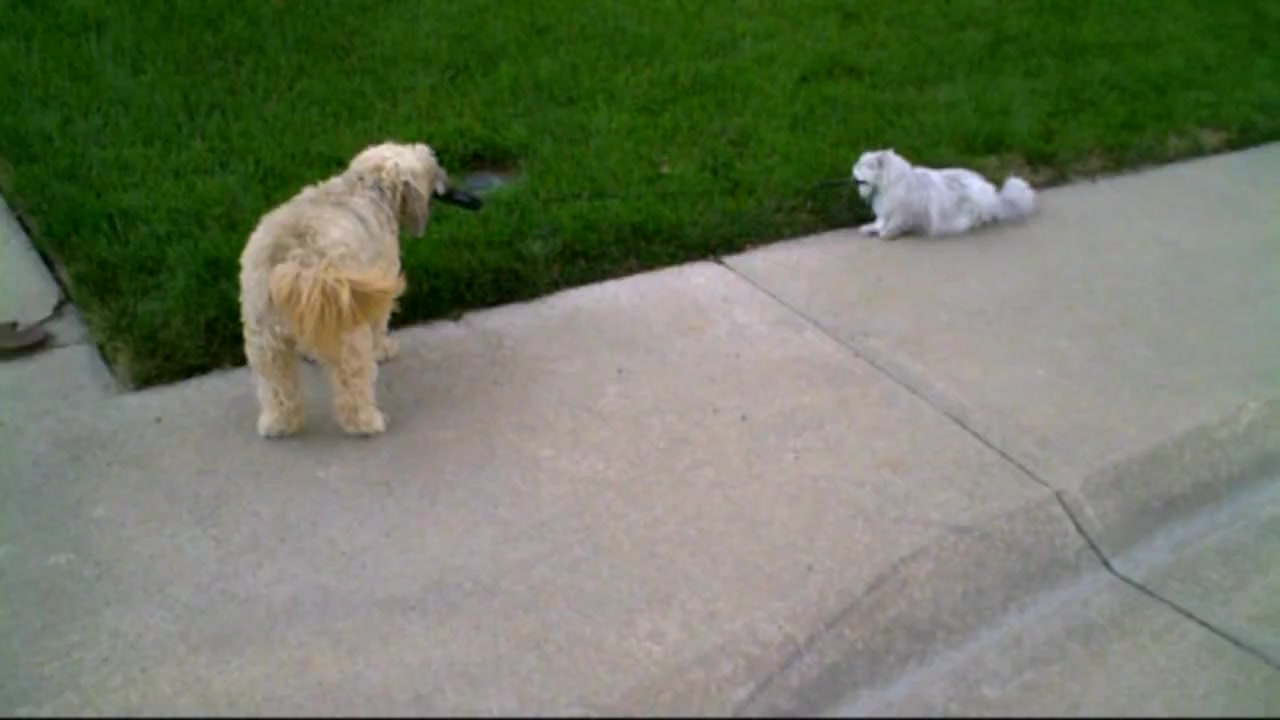dog: (235, 135, 450, 444)
